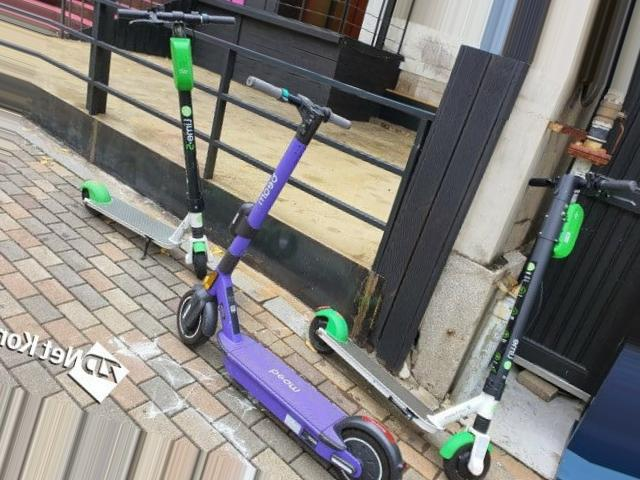scooter: (308, 169, 640, 480), (177, 75, 408, 480), (78, 8, 237, 279)
